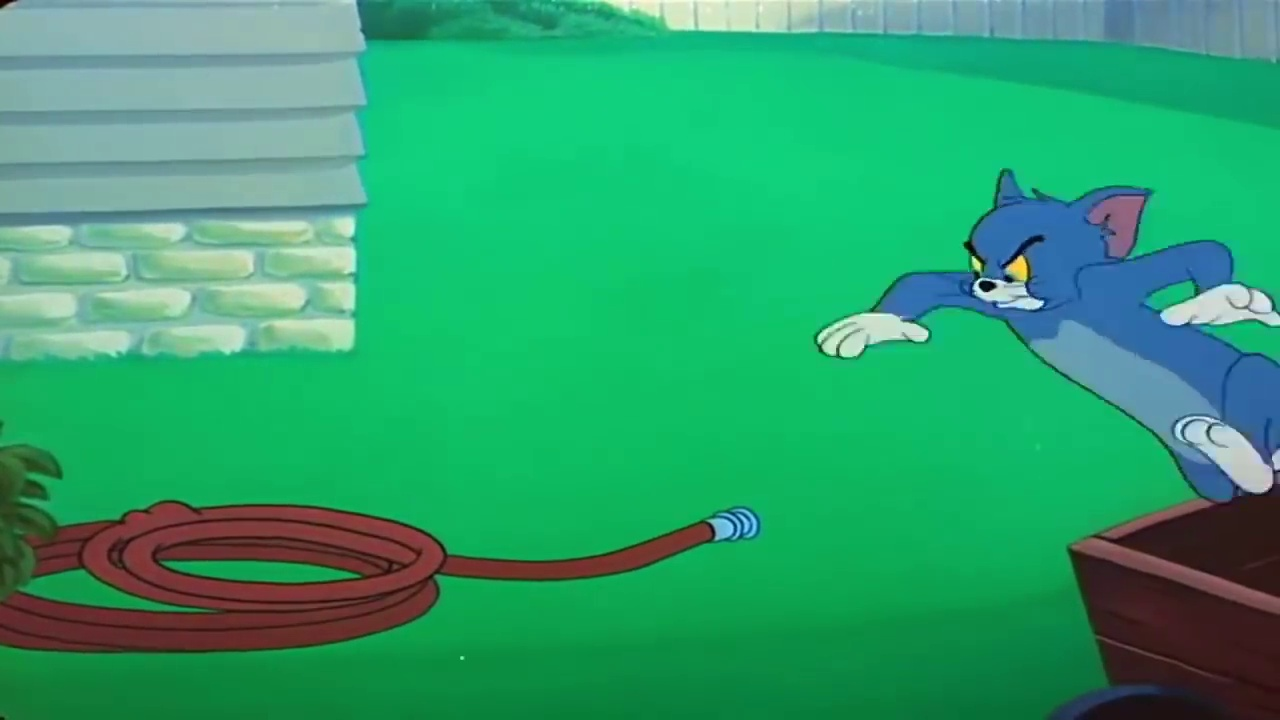tom: (957, 162, 1157, 321)
